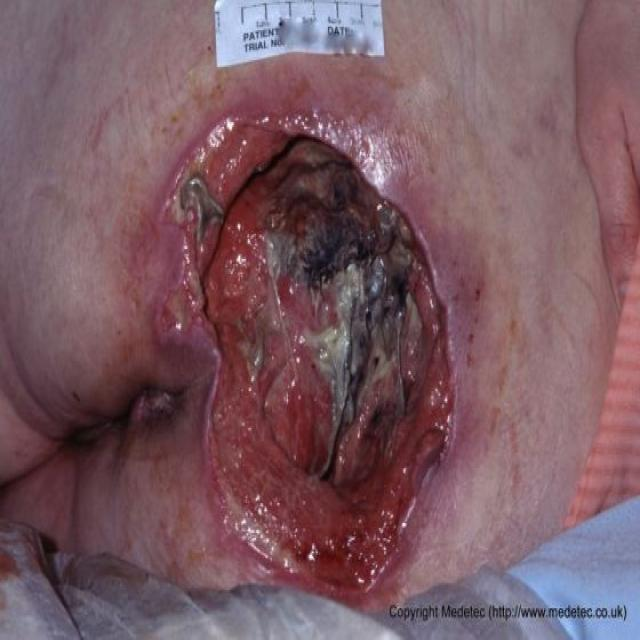stage-4: (157, 116, 458, 594)
